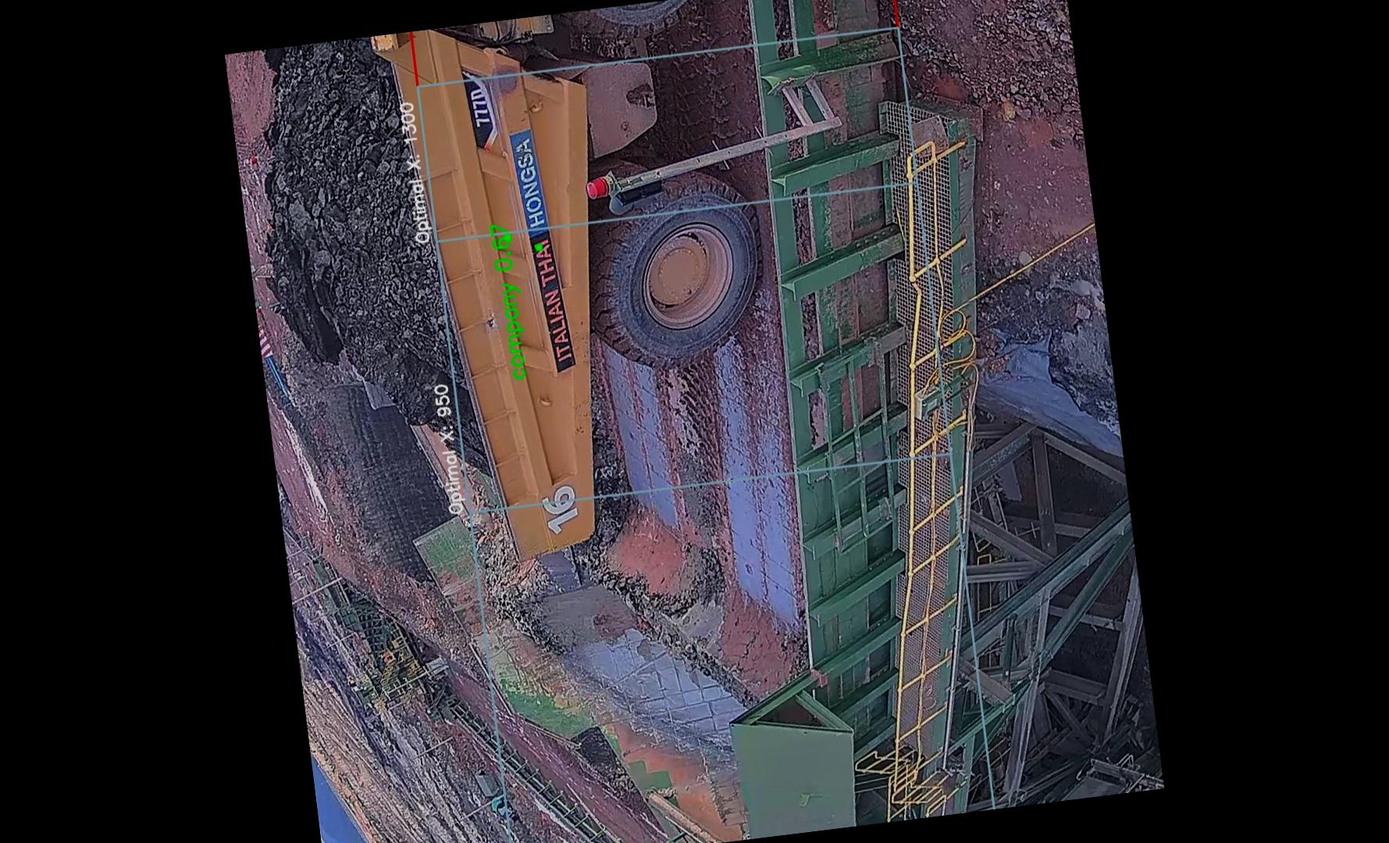company: (505, 122, 582, 381)
full_load: (248, 37, 463, 414)
mining_truck: (233, 0, 790, 594)
tail_number: (533, 466, 588, 542)
truck_size: (451, 58, 502, 161)
